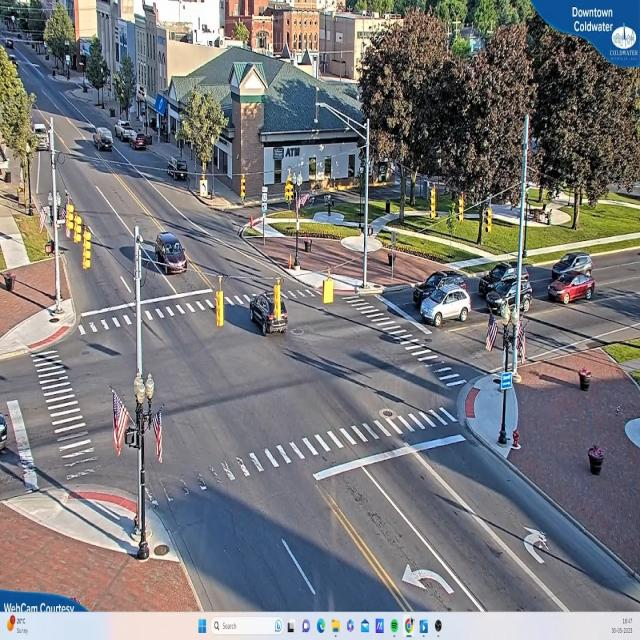car: (420, 288, 472, 327), (250, 290, 289, 342), (411, 271, 467, 307), (478, 258, 530, 296), (488, 276, 537, 316), (154, 227, 188, 281), (551, 246, 595, 281), (550, 272, 596, 304), (95, 127, 112, 150), (132, 135, 149, 150)
